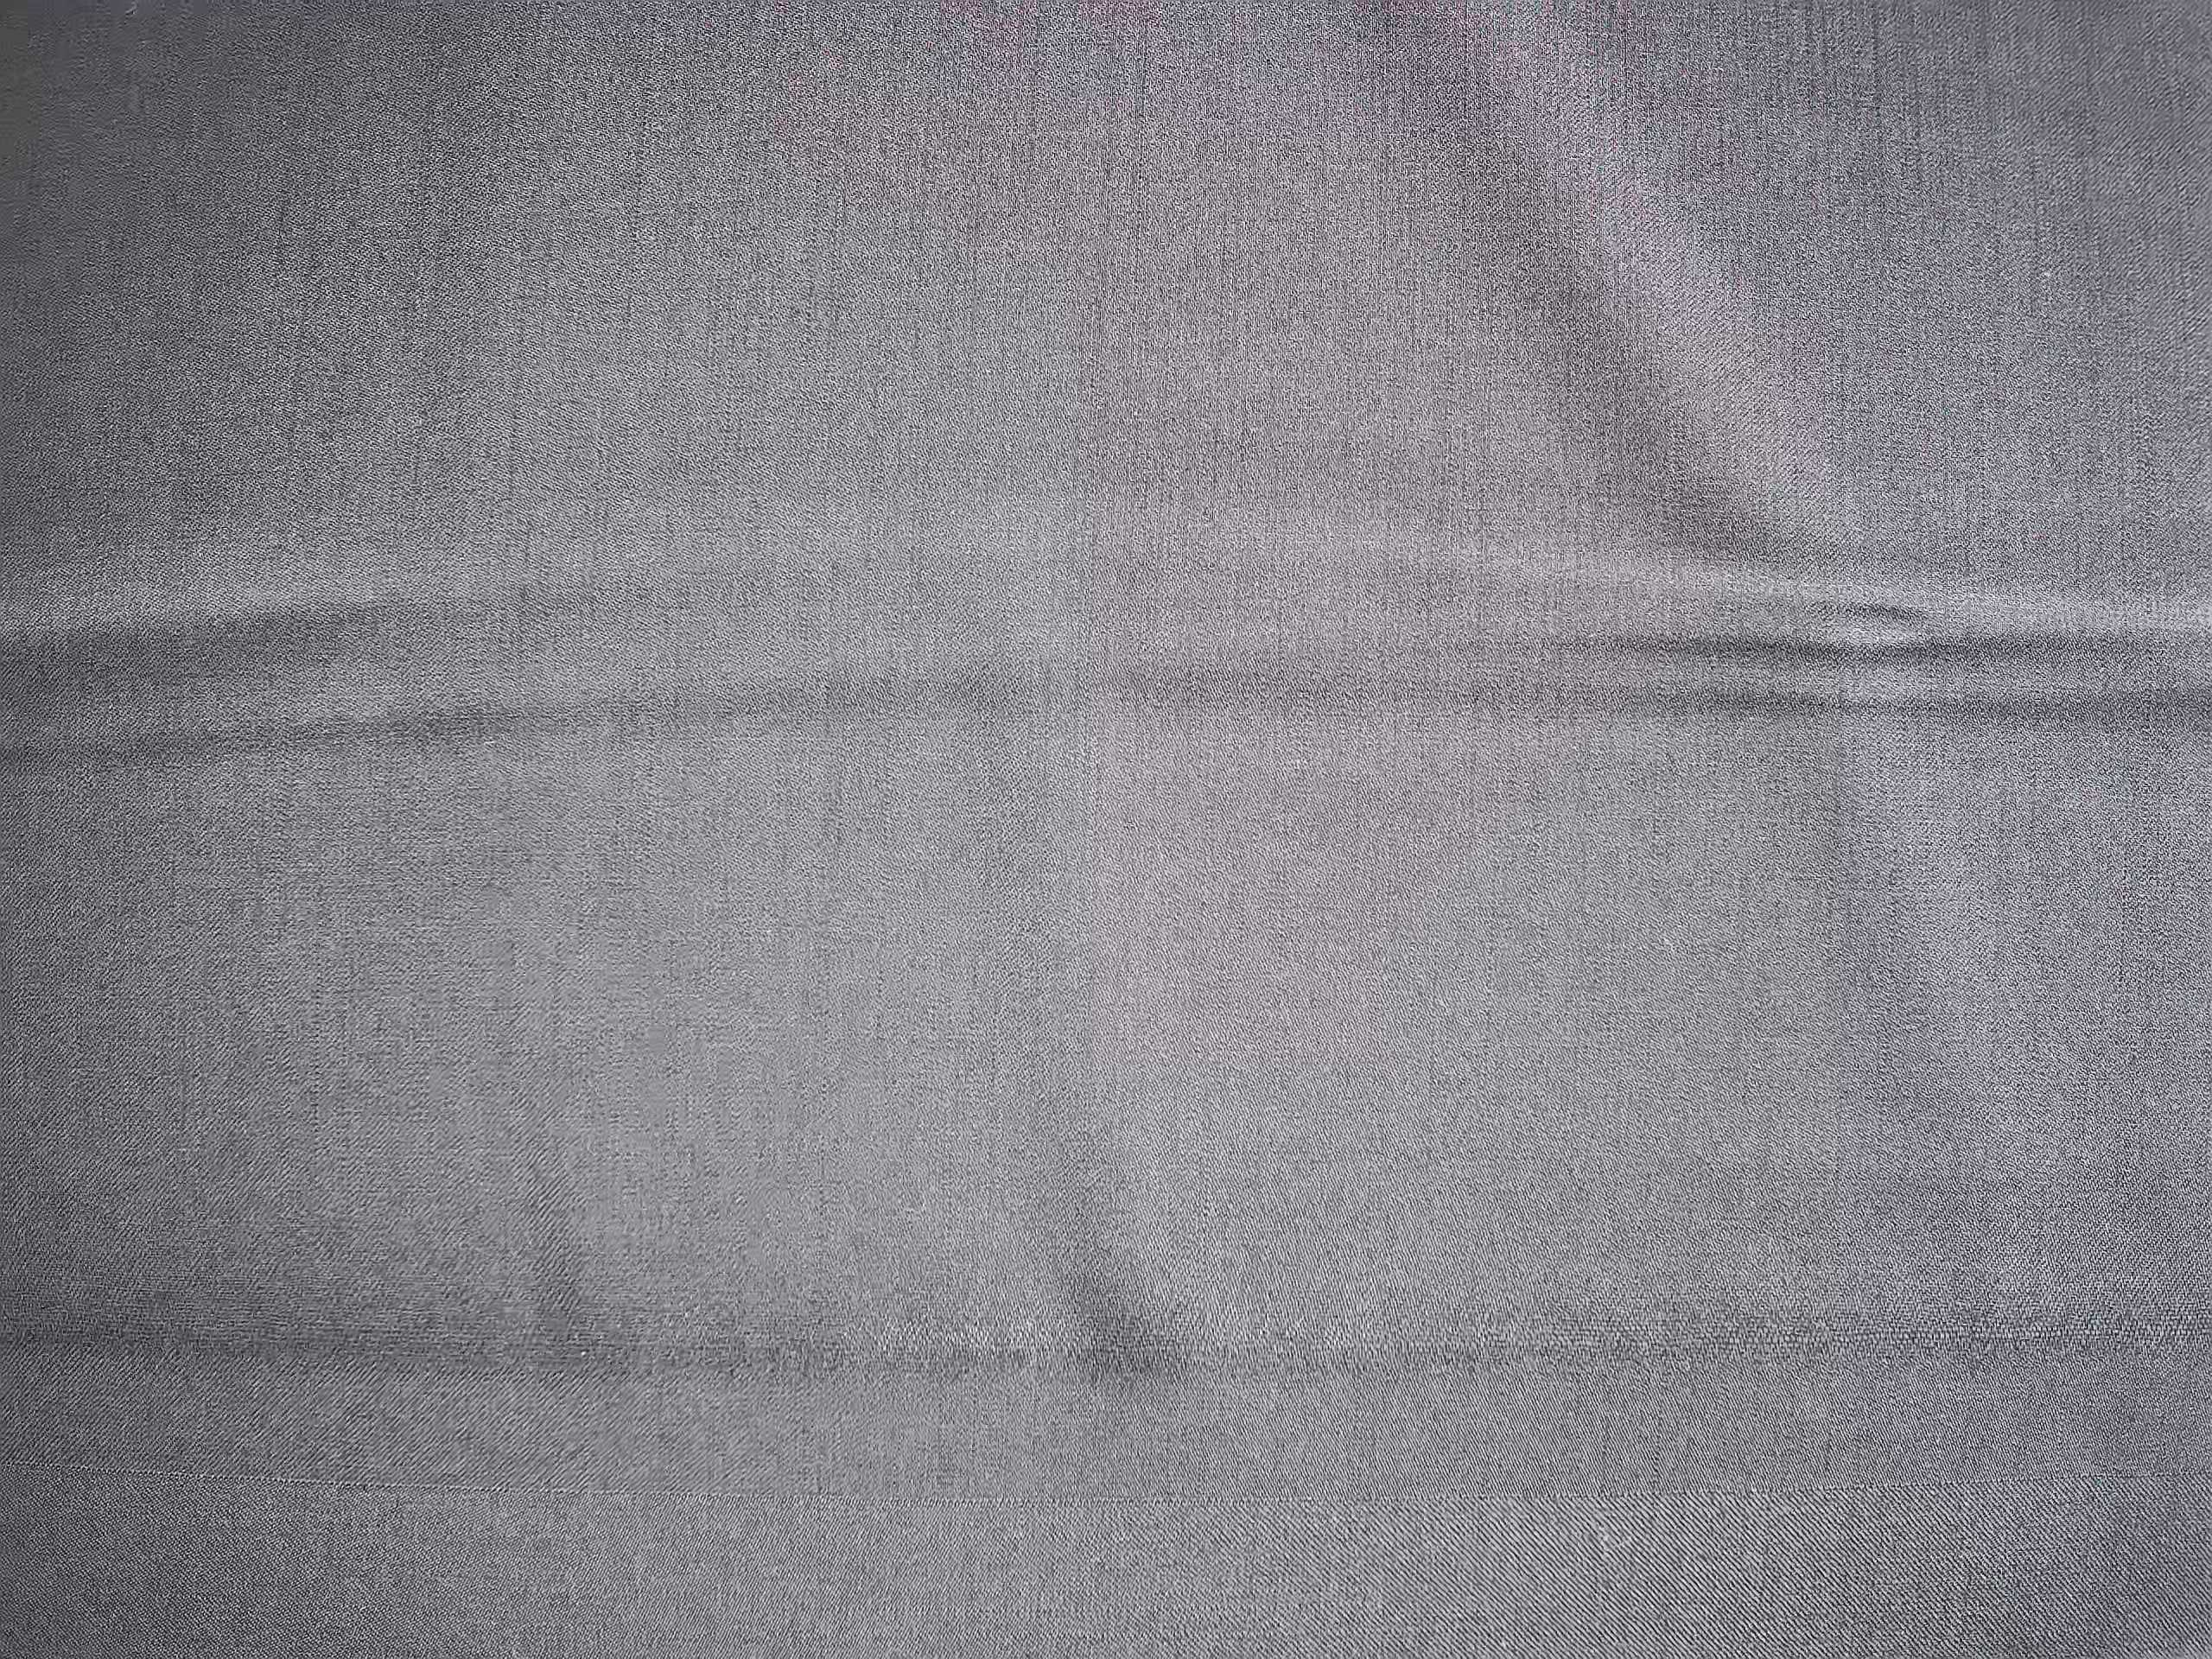thin-spinning: (10, 1446, 2209, 1654), (0, 1267, 2200, 1392)
